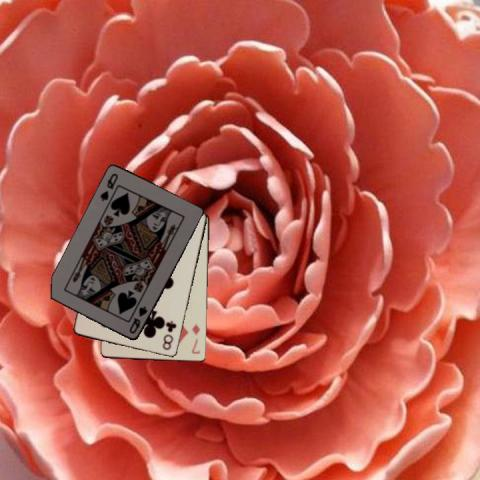7d: (189, 321, 201, 355)
8c: (160, 318, 178, 351)
Qs: (126, 304, 149, 336), (98, 171, 120, 202)
